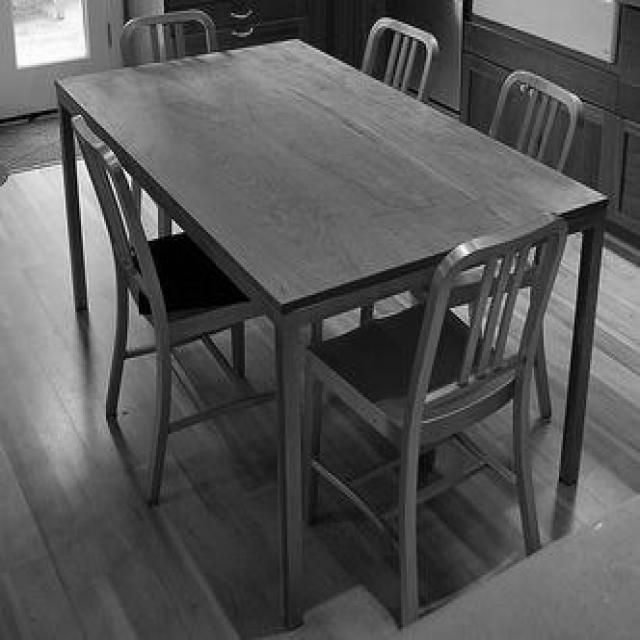chair: (308, 218, 584, 620), (72, 110, 304, 506)
table: (50, 36, 608, 630)
